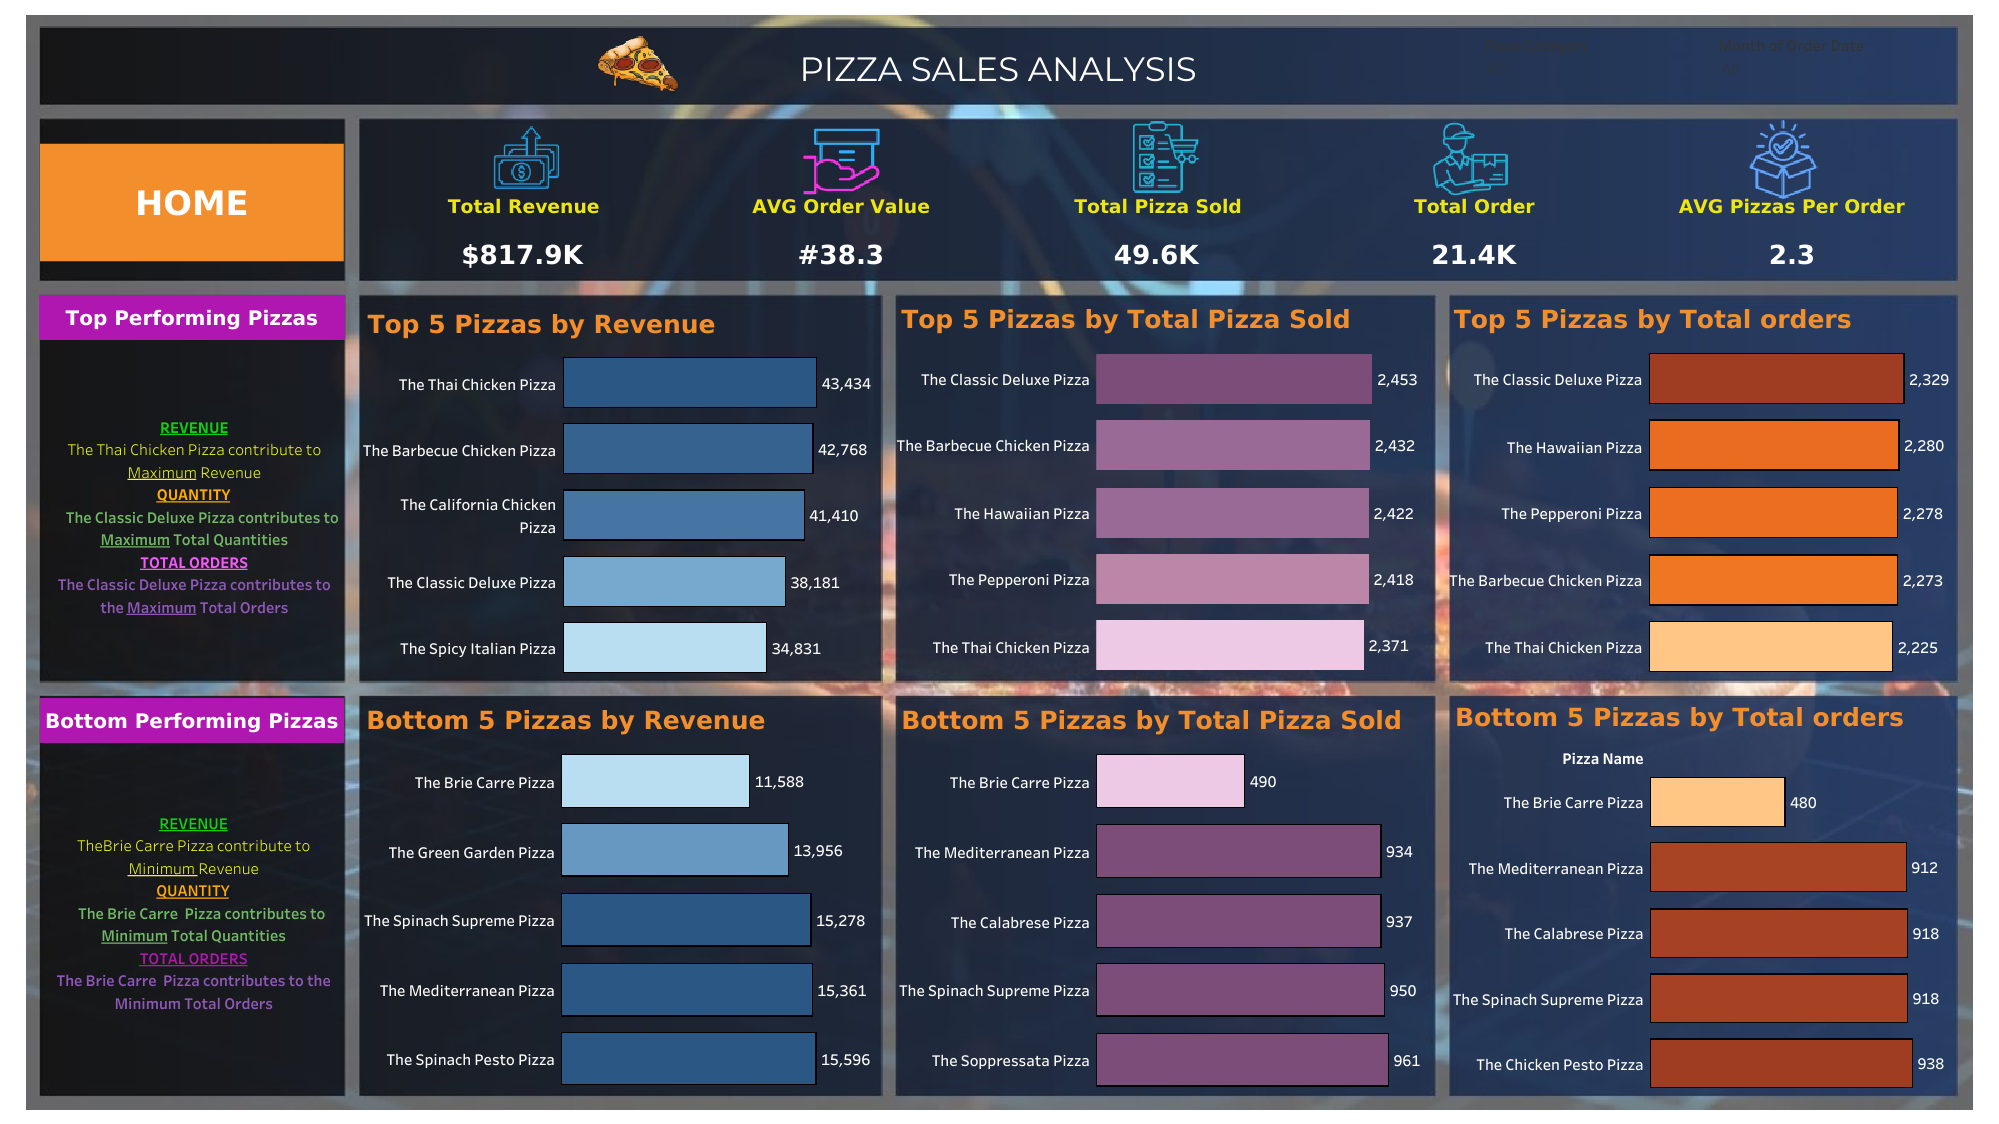

What the dashboard file says about the page in this screenshot:
{"tool":"tableau","page":{"name":"Best/Worst Selling Pizza","canvas":[1600,900],"ordinal":0},"visuals":[{"type":"image","param":"Image/Pizza Tableau 2.jpg","box":[8,8,1584,884]},{"type":"text","box":[34,24,1529,61]},{"type":"image","param":"Image/Slice-of-pizza-on-transparent-background-PNG.png","box":[380,26,261,50]},{"type":"filter","title":"KPI BANNER","param":"[federated.0fn10ok01wbyrm17l5i3q10tctgx].[none:pizza_category:nk]","box":[1188,26,166,53]},{"type":"filter","title":"KPI BANNER","param":"[federated.0fn10ok01wbyrm17l5i3q10tctgx].[mn:order_date:ok]","box":[1375,26,180,52]},{"type":"image","param":"Image/shipping-box.png","box":[590,94,167,70]},{"type":"image","param":"Image/profit-growth.png","box":[372,96,99,60]},{"type":"image","param":"Image/order-delivery.png","box":[835,96,195,59]},{"type":"image","param":"Image/delivery-man.png","box":[1063,96,227,62]},{"type":"image","param":"Image/order (1).png","box":[1319,96,215,63]},{"type":"dashboard-object","box":[32,115,243,94]},{"type":"worksheet","title":"KPI BANNER","mark":"Automatic","box":[292,145,1269,77]},{"type":"text","box":[31,236,245,36]},{"type":"worksheet","title":"Top 5 Pizzas by Total Pizza Sold","mark":"Automatic","rows":["pizza_name"],"cols":["Calculation_1664080063612268545"],"box":[717,237,433,306]},{"type":"worksheet","title":"Top 5 Pizzas by Total orders","mark":"Automatic","rows":["pizza_name"],"cols":["Calculation_1664080063612411906"],"box":[1159,237,415,307]},{"type":"worksheet","title":"Top 5 Pizzas by Revenue","mark":"Automatic","rows":["pizza_name"],"cols":["Calculation_1664080063611842560"],"box":[290,241,421,303]},{"type":"text","box":[37,276,237,256]},{"type":"worksheet","title":"Bottom 5 Pizzas by Total orders","mark":"Automatic","rows":["pizza_name"],"cols":["Calculation_1664080063612411906"],"box":[1160,556,411,321]},{"type":"text","box":[32,558,243,36]},{"type":"worksheet","title":"Bottom 5 Pizzas by Revenue ","mark":"Automatic","rows":["pizza_name"],"cols":["Calculation_1664080063611842560"],"box":[289,558,422,317]},{"type":"worksheet","title":"Bottom 5 Pizzas by Total Pizza Sold","mark":"Automatic","rows":["pizza_name"],"cols":["Calculation_1664080063612268545"],"box":[717,558,436,318]},{"type":"text","box":[37,588,236,283]}]}

Visuals, with their boxes in screenshot pixels (x1, y1, x2, y2), scaled from the page's 1600x900 canvas onto the 1999x1124 screenshot:
image: (left=10, top=10, right=1989, bottom=1114)
text: (left=42, top=30, right=1953, bottom=106)
image: (left=475, top=32, right=801, bottom=95)
"KPI BANNER" filter: (left=1484, top=32, right=1692, bottom=99)
"KPI BANNER" filter: (left=1718, top=32, right=1943, bottom=97)
image: (left=737, top=117, right=946, bottom=205)
image: (left=465, top=120, right=588, bottom=195)
image: (left=1043, top=120, right=1287, bottom=194)
image: (left=1328, top=120, right=1612, bottom=197)
image: (left=1648, top=120, right=1917, bottom=199)
dashboard-object: (left=40, top=144, right=344, bottom=261)
"KPI BANNER" worksheet: (left=365, top=181, right=1950, bottom=277)
text: (left=39, top=295, right=345, bottom=340)
"Top 5 Pizzas by Total Pizza Sold" worksheet: (left=896, top=296, right=1437, bottom=678)
"Top 5 Pizzas by Total orders" worksheet: (left=1448, top=296, right=1967, bottom=679)
"Top 5 Pizzas by Revenue" worksheet: (left=362, top=301, right=888, bottom=679)
text: (left=46, top=345, right=342, bottom=664)
"Bottom 5 Pizzas by Total orders" worksheet: (left=1449, top=694, right=1963, bottom=1095)
text: (left=40, top=697, right=344, bottom=742)
"Bottom 5 Pizzas by Revenue " worksheet: (left=361, top=697, right=888, bottom=1093)
"Bottom 5 Pizzas by Total Pizza Sold" worksheet: (left=896, top=697, right=1441, bottom=1094)
text: (left=46, top=734, right=341, bottom=1088)
